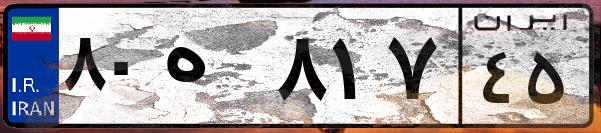0: (110, 28, 158, 98)
1: (330, 28, 385, 110)
4: (475, 38, 525, 113)
5: (525, 38, 570, 115)
7: (385, 28, 445, 110)
8: (270, 28, 330, 110), (57, 26, 110, 100)
ه: (158, 20, 270, 120)
